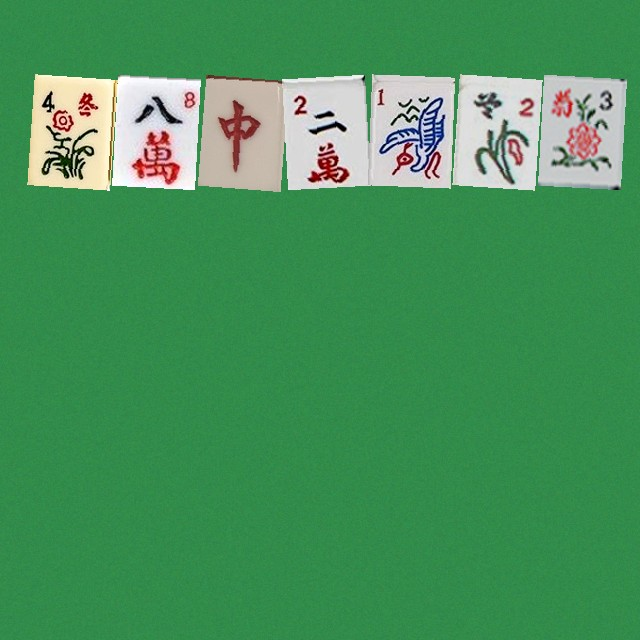tile: (27, 74, 110, 185), (112, 74, 195, 185), (197, 74, 280, 185), (282, 74, 365, 185), (367, 74, 450, 185), (452, 74, 535, 185), (537, 74, 620, 185)
